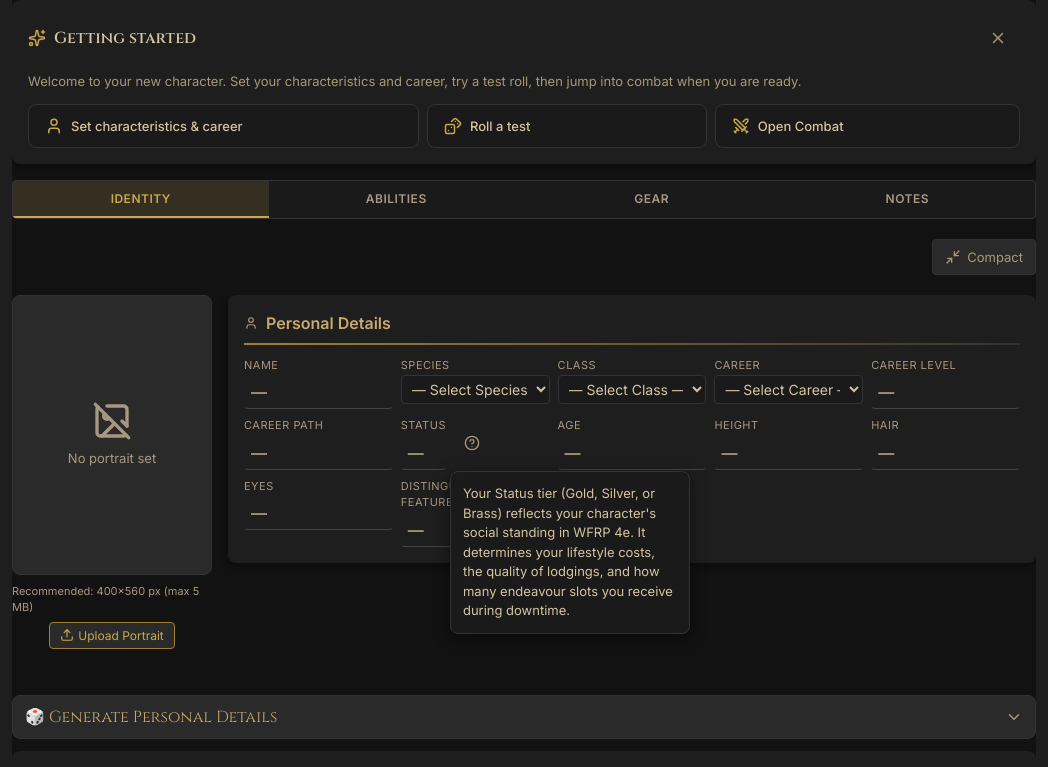
Test: CalculatedTooltips integration › Encumbrance Tooltip (Req 3.1, 3.4) › click encumbrance → shows SB + TB + talent contributions
This screenshot has width=1048, height=767.
// Switch to Gear tab
Click the tab "Gear". click: [652, 199]
box: [524,180,780,218]
(page scrolled)
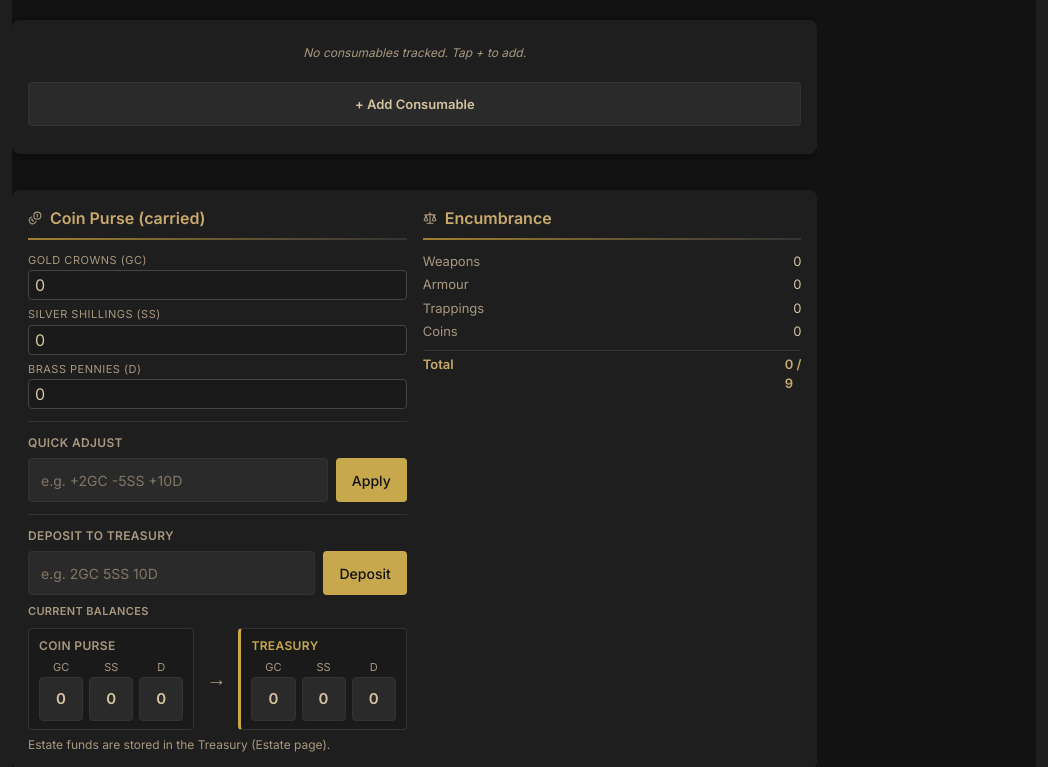
Expected: the button named "Max encumbrance breakdown" is shown
// Click opens tooltip
Click the button named "Max encumbrance breakdown". click: [789, 383]
box: [785,375,793,391]
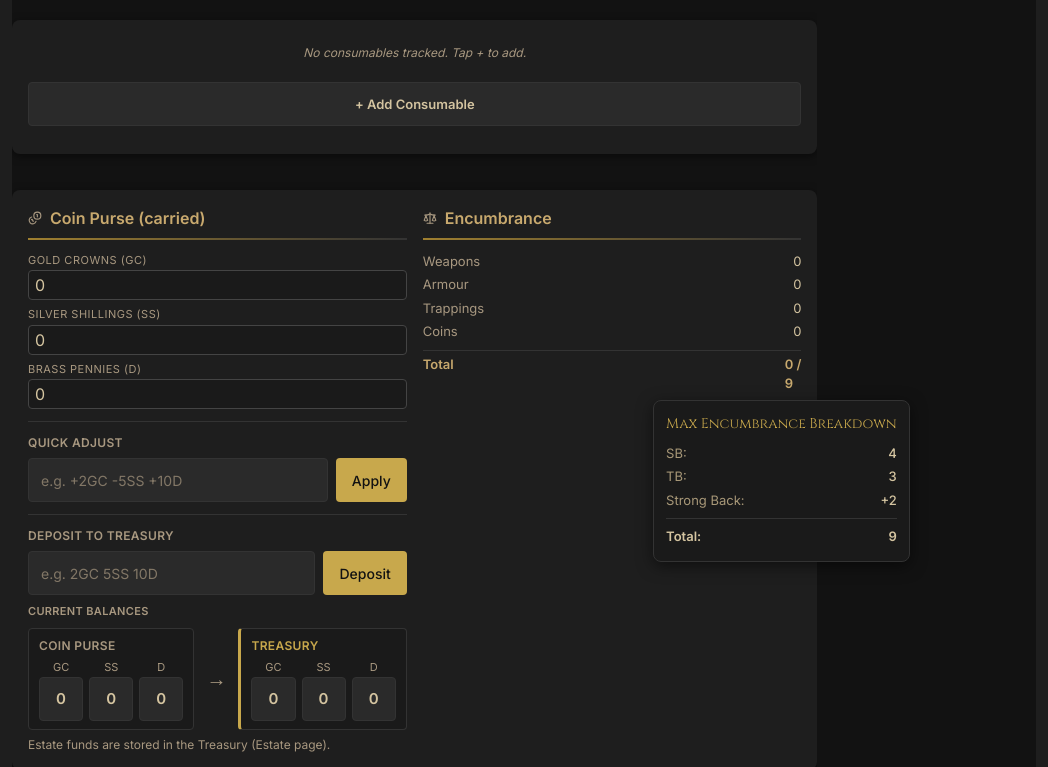
Expected: the tooltip with id "tooltip-breakdown-encumbrance" shows "SB", [666,444,687,460]
Expected: the tooltip with id "tooltip-breakdown-encumbrance" shows "4", [888,444,897,460]
Expected: the tooltip with id "tooltip-breakdown-encumbrance" shows "TB", [666,468,687,484]
// Press Escape closes tooltip
Press Escape
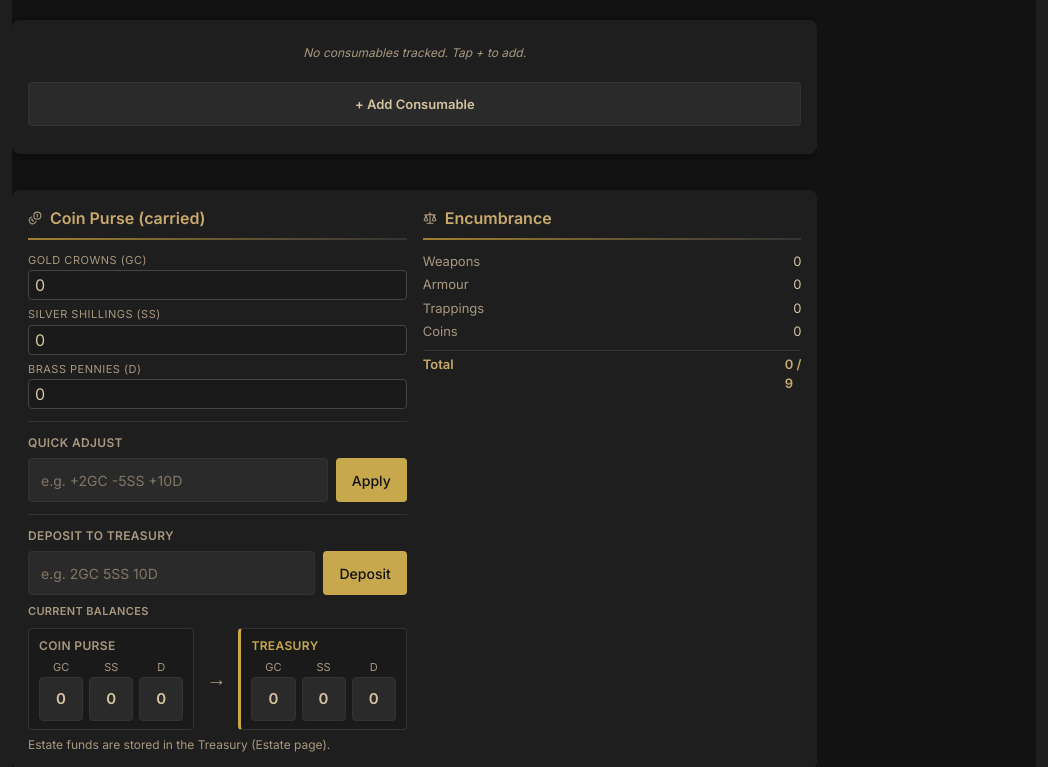
Expected: the tooltip with id "tooltip-breakdown-encumbrance" is gone
